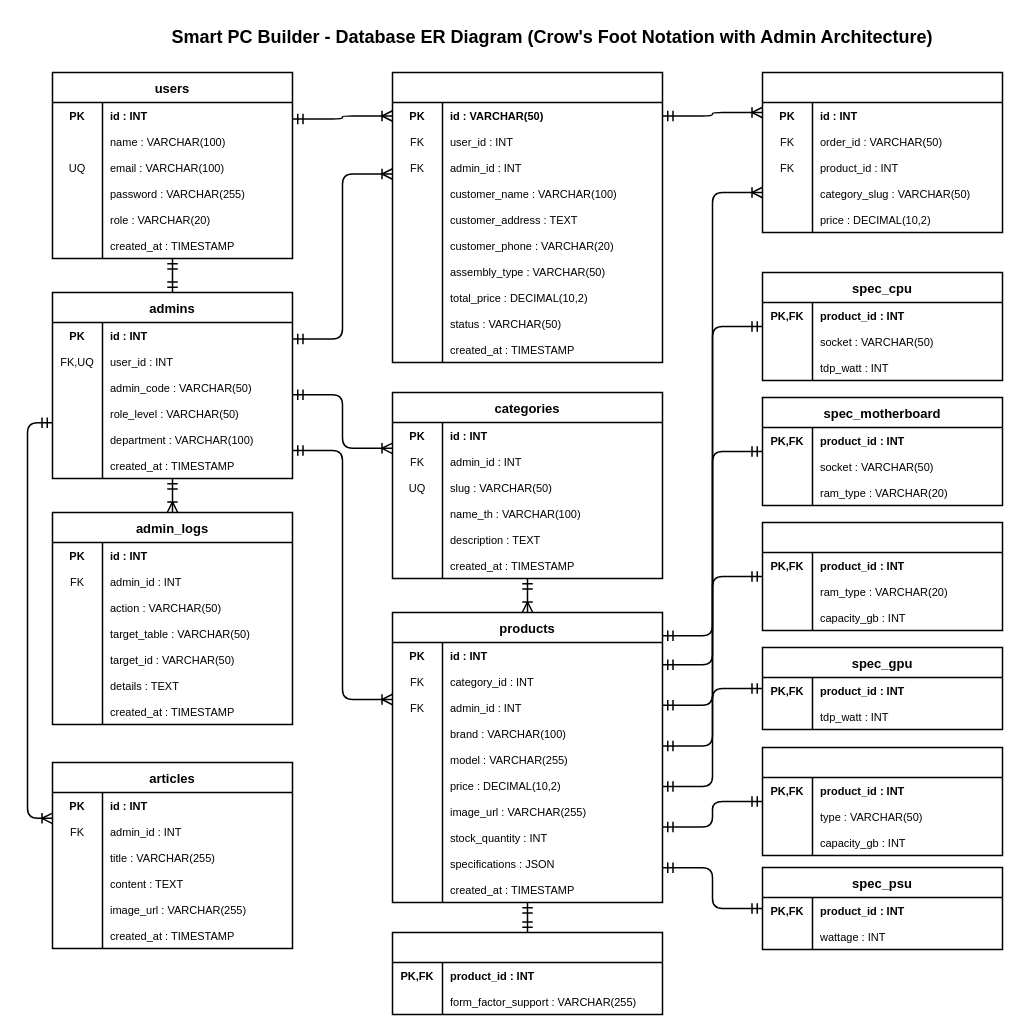
Image size: 1021x1032. Some labels were removed from this diagram. Here are the shapes that lost their labels. From the top down, the box of each, then its label:
(761, 71, 1003, 233): order_items
(391, 71, 663, 363): orders
(761, 521, 1003, 631): spec_ram
(761, 746, 1003, 856): spec_storage
(391, 931, 663, 1015): spec_case
